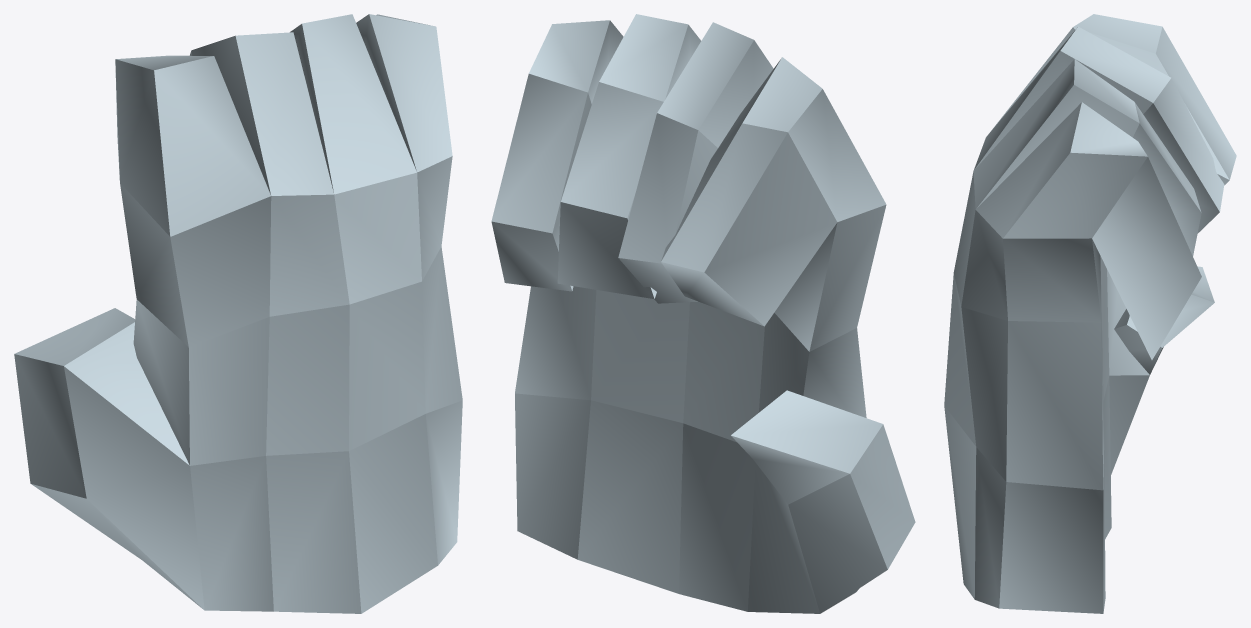
File: hand.glb
3 renders of one model, left to right at view 1: azimuth 30°, elevation 25°; view 2: azimuth 150°, elevation 25°; view 3: azimuth 270°, elevation 25°, orthographic. The views are drawn at different scales.
Parts seen in each view (by area): view 1: hand; view 2: hand; view 3: hand.
Boxes of the visible parts, x1=… form: hand: x1=14, y1=14, x2=462, y2=613; hand: x1=491, y1=14, x2=915, y2=613; hand: x1=944, y1=14, x2=1236, y2=613.
Bounding box in the file's own units: 0.4087 × 0.5638 × 0.2837.
